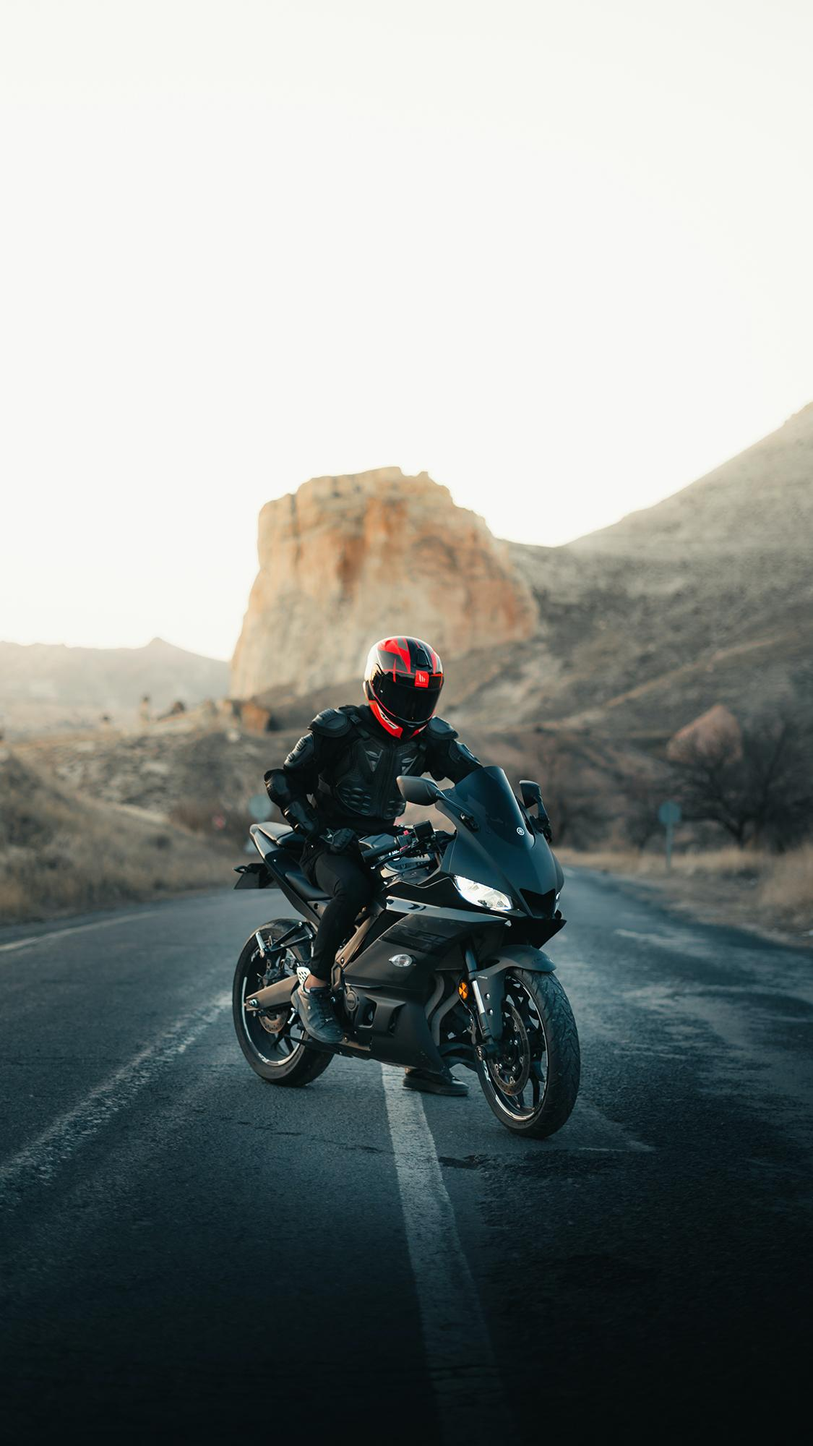helmet: (362, 635, 445, 742)
